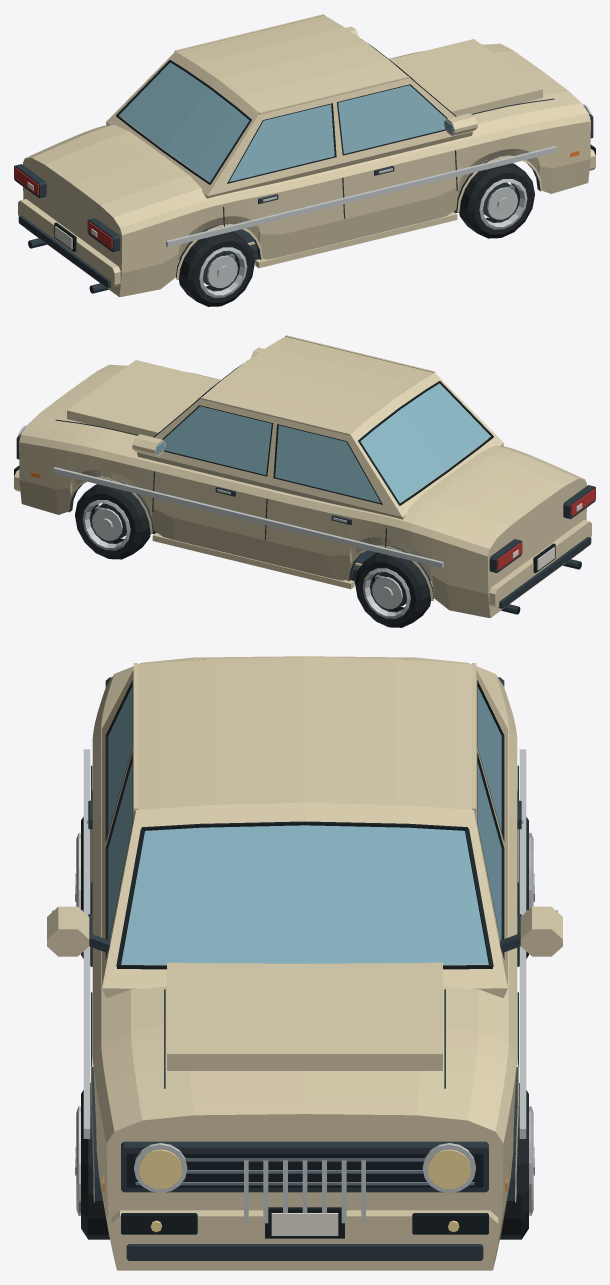
The model's file is b03_chrome_trim_classic_sedan.glb.
3 views of the same model, one above another, from view 1: azimuth 30°, elevation 25°; view 2: azimuth 150°, elevation 25°; view 3: azimuth 270°, elevation 25° (orthographic). The views are drawn at different scales.
Visible parts, largest first — view 1: b03_chrome_trim_classic_sedan; view 2: b03_chrome_trim_classic_sedan; view 3: b03_chrome_trim_classic_sedan.
Part boxes in pixels (x1,y1,x2,y2): b03_chrome_trim_classic_sedan: [14, 14, 595, 306]; b03_chrome_trim_classic_sedan: [14, 335, 595, 627]; b03_chrome_trim_classic_sedan: [47, 656, 562, 1270].
Size of the model in its own units: 5.1 by 1.74 by 2.32.
